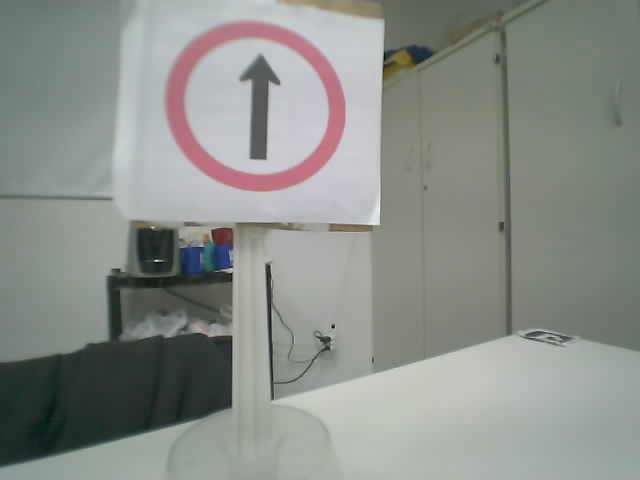R-26_frente: (165, 20, 343, 191)
